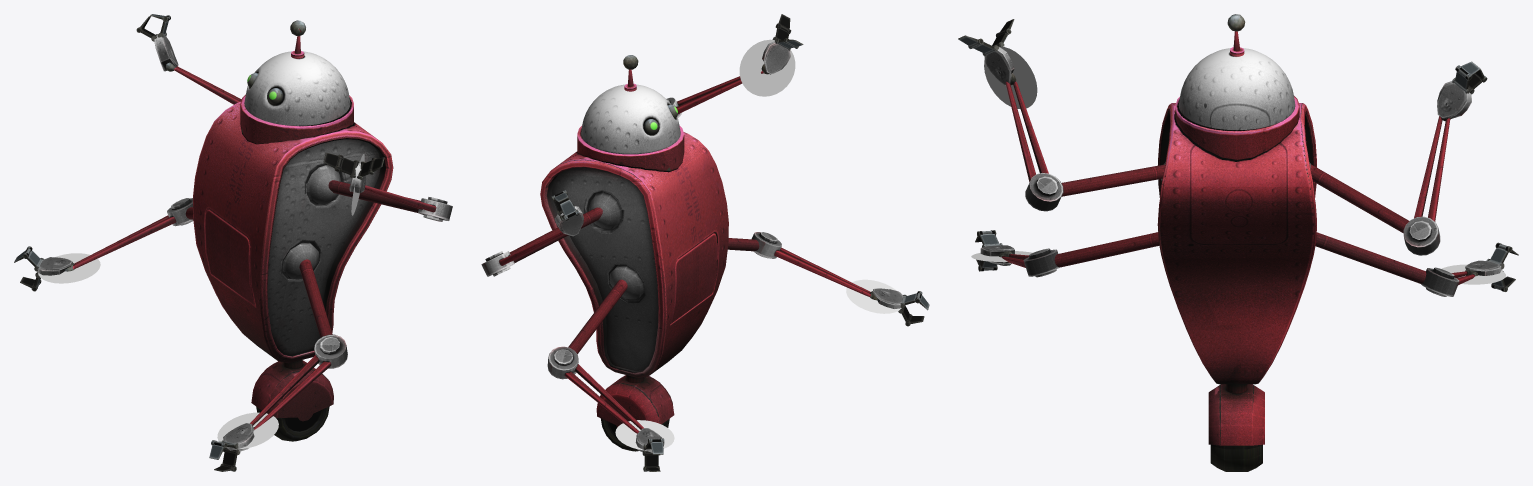
The model's file is robot.FBX.
The picture shows the model from 3 angles, left to right: view 1: azimuth 30°, elevation 25°; view 2: azimuth 150°, elevation 25°; view 3: azimuth 270°, elevation 25°; orthographic projection. The views are drawn at different scales.
Parts seen in each view (by area): view 1: bot_body, bot_head, bot_base, bot_door, bot_arm_link_005, bot_arm_link_011, bot_wheel, bot_arm_link_2, bot_arm_link_004, arm_cntrlr002, arm_cntrlr001, bot_arm_link_1 (+4 smaller); view 2: bot_body, bot_head, bot_base, bot_door, bot_arm_link_011, arm_cntrlr003, bot_arm_link_005, bot_arm_link_010, arm_cntrlr002, bot_arm_link_008, bot_arm_link_2, arm_cntrlr001 (+4 smaller); view 3: bot_body, bot_head, bot_base, bot_arm_link_008, bot_arm_link_2, bot_arm_link_010, bot_arm_link_007, bot_arm_link_004, bot_arm_link_1, arm_cntrlr003, bot_wheel, bot_arm_link_005 (+3 smaller).
Boxes of the visible parts, x1=… form: bot_body: x1=193, y1=94, x2=393, y2=363; bot_head: x1=244, y1=20, x2=350, y2=125; bot_base: x1=251, y1=360, x2=333, y2=421; bot_door: x1=205, y1=209, x2=254, y2=305; bot_arm_link_005: x1=250, y1=334, x2=347, y2=430; bot_arm_link_011: x1=65, y1=198, x2=193, y2=271; bot_wheel: x1=256, y1=406, x2=329, y2=441; bot_arm_link_2: x1=364, y1=185, x2=452, y2=221; bot_arm_link_004: x1=299, y1=259, x2=332, y2=337; arm_cntrlr002: x1=217, y1=412, x2=278, y2=448; arm_cntrlr001: x1=38, y1=253, x2=100, y2=283; bot_arm_link_1: x1=328, y1=180, x2=420, y2=212; bot_body: x1=540, y1=125, x2=728, y2=378; bot_head: x1=581, y1=55, x2=680, y2=154; bot_base: x1=596, y1=375, x2=674, y2=427; bot_door: x1=670, y1=233, x2=717, y2=323; bot_arm_link_011: x1=547, y1=346, x2=643, y2=433; arm_cntrlr003: x1=739, y1=39, x2=795, y2=96; bot_arm_link_005: x1=751, y1=232, x2=877, y2=300; bot_arm_link_010: x1=568, y1=279, x2=627, y2=353; arm_cntrlr002: x1=846, y1=279, x2=901, y2=313; bot_arm_link_008: x1=481, y1=231, x2=563, y2=276; bot_arm_link_2: x1=666, y1=64, x2=768, y2=117; arm_cntrlr001: x1=615, y1=420, x2=674, y2=450; bot_body: x1=1157, y1=96, x2=1316, y2=384; bot_head: x1=1178, y1=14, x2=1295, y2=129; bot_base: x1=1208, y1=384, x2=1264, y2=445; bot_arm_link_008: x1=1403, y1=116, x2=1452, y2=255; bot_arm_link_2: x1=1005, y1=73, x2=1063, y2=211; bot_arm_link_010: x1=1315, y1=232, x2=1426, y2=283; bot_arm_link_007: x1=1310, y1=164, x2=1409, y2=233; bot_arm_link_004: x1=1054, y1=232, x2=1159, y2=267; bot_arm_link_1: x1=1061, y1=164, x2=1164, y2=196; arm_cntrlr003: x1=984, y1=46, x2=1037, y2=108; bot_wheel: x1=1210, y1=444, x2=1262, y2=471; bot_arm_link_005: x1=999, y1=248, x2=1059, y2=277.
Bounding box in the file's own units: 55.87 × 80.67 × 90.03.
Materials: 1 (1 with a texture image).
